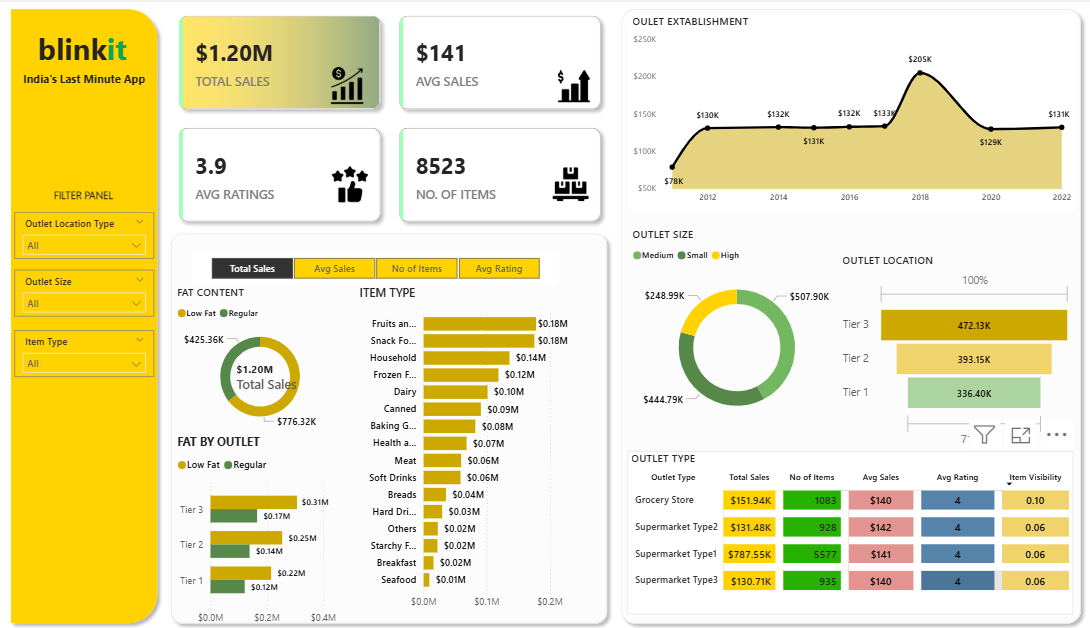

The page's visual inventory and layout, read from the dashboard file:
{"tool":"powerbi","page":{"name":"Page 1","canvas":[1400,800],"ordinal":0},"visuals":[{"type":"shape","box":[10,0,204,798],"z":0},{"type":"textbox","box":[29.3,27.7,159.4,73.2],"z":1000},{"type":"textbox","box":[22.7,81.3,177.3,52.7],"z":2000},{"type":"cardVisual","fields":{"Data":["BlinkIT Grocery Data.Total Sales","BlinkIT Grocery Data.Avg Sales","BlinkIT Grocery Data.Avg Rating","BlinkIT Grocery Data.No of Items"]},"box":[214.5,0,571,296.8],"z":3000},{"type":"image","box":[416,76,58,58],"z":4000},{"type":"image","box":[700,80,68,54],"z":5000},{"type":"image","box":[416,204,66,56],"z":6000},{"type":"image","box":[700,204,60,56],"z":7000},{"type":"shape","box":[213.3,285,571.7,513.3],"z":8000},{"type":"donutChart","title":"FAT CONTENT","fields":{"Y":["BlinkIT Grocery Data.Total Sales"],"Category":["BlinkIT Grocery Data.Item Fat Content"]},"box":[225,358.3,220,190],"z":9000},{"type":"slicer","fields":{"Values":["Metrics.Metrics"]},"box":[248,318,466,40],"z":10000},{"type":"cardVisual","fields":{"Data":["BlinkIT Grocery Data.Total Sales"]},"box":[288.3,436.7,116.7,78.3],"z":11000},{"type":"clusteredBarChart","title":"FAT BY OUTLET","fields":{"Y":["BlinkIT Grocery Data.Total Sales"],"Category":["BlinkIT Grocery Data.Outlet Location Type"],"Series":["BlinkIT Grocery Data.Item Fat Content"]},"box":[225.8,548.4,219.4,251.6],"z":12000},{"type":"barChart","title":"ITEM TYPE","fields":{"Y":["BlinkIT Grocery Data.Total Sales"],"Category":["BlinkIT Grocery Data.Item Type"]},"box":[456.7,358.3,291.7,421.7],"z":13000},{"type":"shape","box":[785,0,601.7,798.3],"z":14000},{"type":"lineChart","title":"OULET EXTABLISHMENT","fields":{"Category":["BlinkIT Grocery Data.Outlet Establishment Year"],"Y":["BlinkIT Grocery Data.Total Sales"]},"box":[803.3,15,566.7,250],"z":15000},{"type":"donutChart","title":"OUTLET SIZE","fields":{"Y":["BlinkIT Grocery Data.Total Sales"],"Category":["BlinkIT Grocery Data.Outlet Size"]},"box":[803.2,285.5,274.2,262.9],"z":16000},{"type":"funnel","title":"OUTLET LOCATION","fields":{"Category":["BlinkIT Grocery Data.Outlet Location Type"],"Y":["Sum(BlinkIT Grocery Data.Sales)"]},"box":[1069.4,317.7,300,251.6],"z":17000},{"type":"pivotTable","title":"OUTLET TYPE","fields":{"Values":["BlinkIT Grocery Data.Total Sales","BlinkIT Grocery Data.No of Items","BlinkIT Grocery Data.Avg Sales","BlinkIT Grocery Data.Avg Rating","Avg(BlinkIT Grocery Data.Item Visibility)"],"Rows":["BlinkIT Grocery Data.Outlet Type"]},"box":[801.6,569.4,566.1,209.7],"z":18000},{"type":"slicer","fields":{"Values":["BlinkIT Grocery Data.Outlet Location Type"]},"box":[22.6,266.1,177.4,59.7],"z":19000},{"type":"slicer","fields":{"Values":["BlinkIT Grocery Data.Outlet Size"]},"box":[22.6,340.3,177.4,59.7],"z":20000},{"type":"slicer","fields":{"Values":["BlinkIT Grocery Data.Item Type"]},"box":[22.6,416.1,177.4,59.7],"z":21000},{"type":"textbox","box":[50,230.6,122.6,29],"z":22000}]}

Visuals, with their boxes in screenshot pixels (x1, y1, x2, y2), scaled from the page's 1400x800 canvas onto the 1090x628 screenshot:
shape: 8,0,167,626
textbox: 23,22,147,79
textbox: 18,64,156,105
cardVisual - BlinkIT Grocery Data.Total Sales x BlinkIT Grocery Data.Avg Sales: 167,0,612,233
image: 324,60,369,105
image: 545,63,598,105
image: 324,160,375,204
image: 545,160,592,204
shape: 166,224,611,627
"FAT CONTENT" donutChart: 175,281,346,430
slicer - Metrics.Metrics: 193,250,556,281
cardVisual - BlinkIT Grocery Data.Total Sales: 224,343,315,404
"FAT BY OUTLET" clusteredBarChart: 176,430,347,627
"ITEM TYPE" barChart: 356,281,583,612
shape: 611,0,1080,627
"OULET EXTABLISHMENT" lineChart: 625,12,1067,208
"OUTLET SIZE" donutChart: 625,224,839,430
"OUTLET LOCATION" funnel: 833,249,1066,447
"OUTLET TYPE" pivotTable: 624,447,1065,612
slicer - BlinkIT Grocery Data.Outlet Location Type: 18,209,156,256
slicer - BlinkIT Grocery Data.Outlet Size: 18,267,156,314
slicer - BlinkIT Grocery Data.Item Type: 18,327,156,374
textbox: 39,181,134,204
